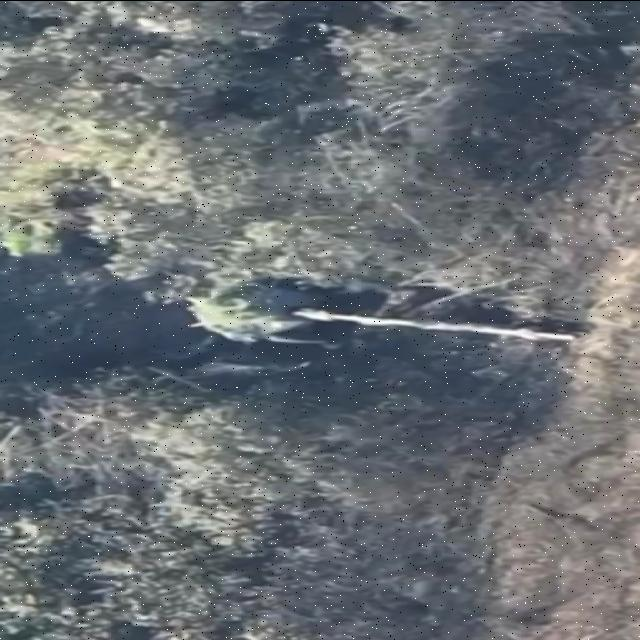ART: (180, 274, 578, 356)
